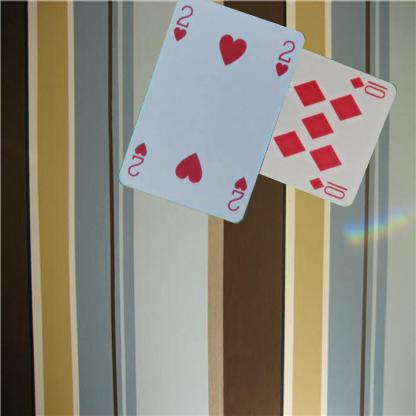10d: (348, 73, 390, 100)
2h: (170, 2, 195, 43), (225, 174, 249, 213)
